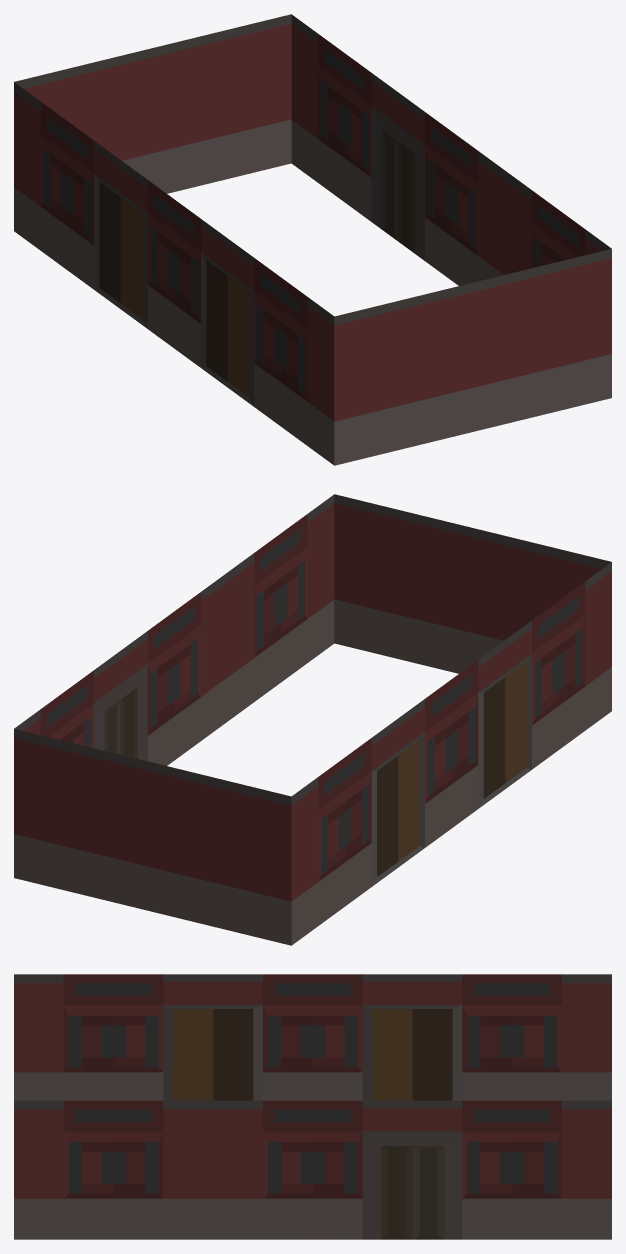
Rendered from BuildingA-Ext_ALOD2.fbx.
3 views of the same model, one above another, from view 1: azimuth 30°, elevation 25°; view 2: azimuth 150°, elevation 25°; view 3: azimuth 270°, elevation 25° (orthographic). The views are drawn at different scales.
Parts seen in each view (by area): view 1: BuildingA-Ext_ALOD2; view 2: BuildingA-Ext_ALOD2; view 3: BuildingA-Ext_ALOD2.
Boxes of the visible parts, <box> form: BuildingA-Ext_ALOD2: <box>14,14,611,465</box>; BuildingA-Ext_ALOD2: <box>14,494,611,945</box>; BuildingA-Ext_ALOD2: <box>14,974,611,1239</box>.
Size of the model in its own units: 750 by 386 by 1500.
